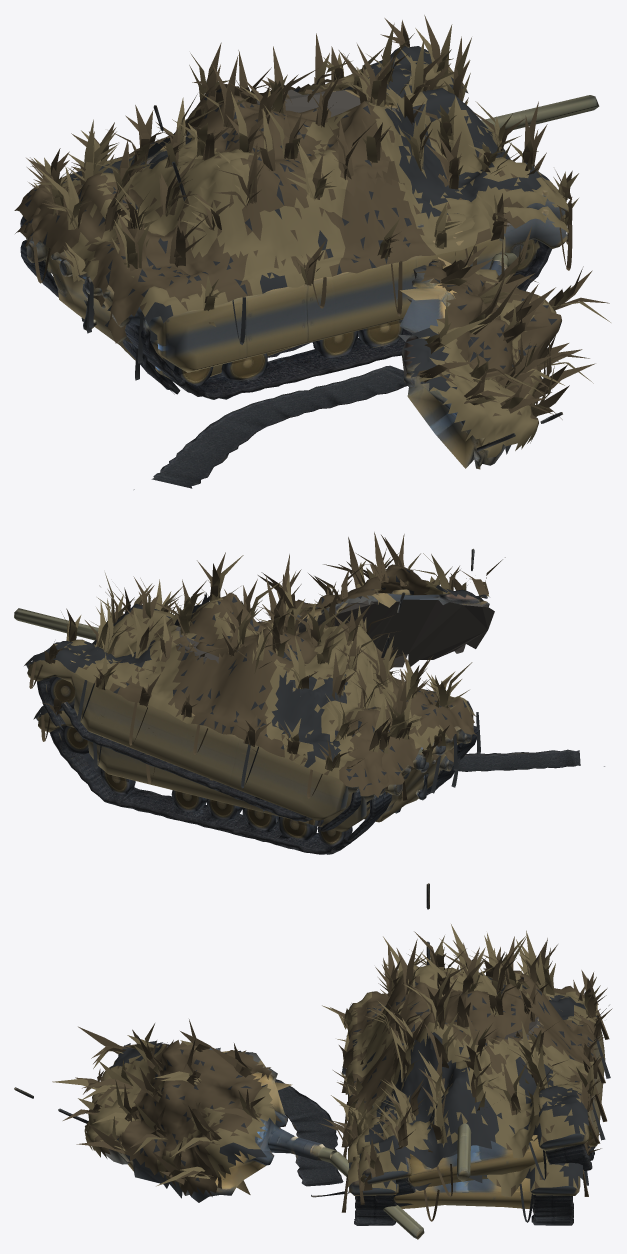
File: mbt_lavi_camo.glb
3 renders of one model, top to bottom at view 1: azimuth 30°, elevation 25°; view 2: azimuth 150°, elevation 25°; view 3: azimuth 270°, elevation 25°, orthographic. The views are drawn at different scales.
Visible parts, largest first — view 1: hull_hull, WRECK_hull_hull, WRECK_turret_hull, turret_hull, WRECK_hull_rubber, hull_rubber, turret_metal; view 2: WRECK_hull_hull, hull_hull, WRECK_turret_hull, turret_hull, hull_rubber, WRECK_hull_rubber, turret_metal; view 3: WRECK_hull_hull, WRECK_turret_hull, hull_hull, turret_hull, WRECK_hull_rubber, WRECK_turret_metal, turret_metal, hull_rubber.
Part boxes in pixels (x1,y1,x2,y2): hull_hull: (15,64,578,383); WRECK_hull_hull: (14,15,578,394); WRECK_turret_hull: (398,226,610,469); turret_hull: (108,44,399,204); WRECK_hull_rubber: (134,342,407,489); hull_rubber: (50,290,412,399); turret_metal: (153,95,599,201); WRECK_hull_hull: (24,573,469,831); hull_hull: (33,593,480,841); WRECK_turret_hull: (258,532,505,667); turret_hull: (151,552,382,701); hull_rubber: (77,765,365,854); WRECK_hull_rubber: (61,701,604,821); turret_metal: (14,592,405,657); WRECK_hull_hull: (327,930,612,1206); WRECK_turret_hull: (52,1019,292,1202); hull_hull: (319,933,605,1222); turret_hull: (378,924,542,1064); WRECK_hull_rubber: (275,1079,595,1197); WRECK_turret_metal: (14,1087,424,1239); turret_metal: (426,883,471,1181); hull_rubber: (354,1196,573,1225).
Bounding box in the file's own units: 8.58 × 3.71 × 8.84.
1 material, 1 textured.
